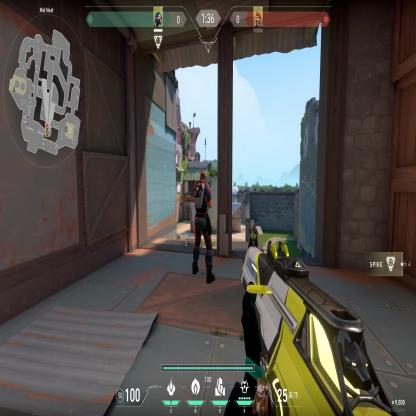enemy: (188, 171, 216, 286)
